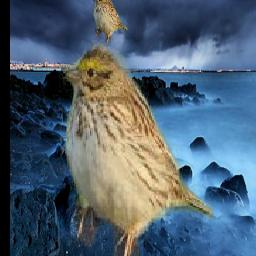Sparrow: (57, 41, 213, 256), (92, 0, 129, 43)
